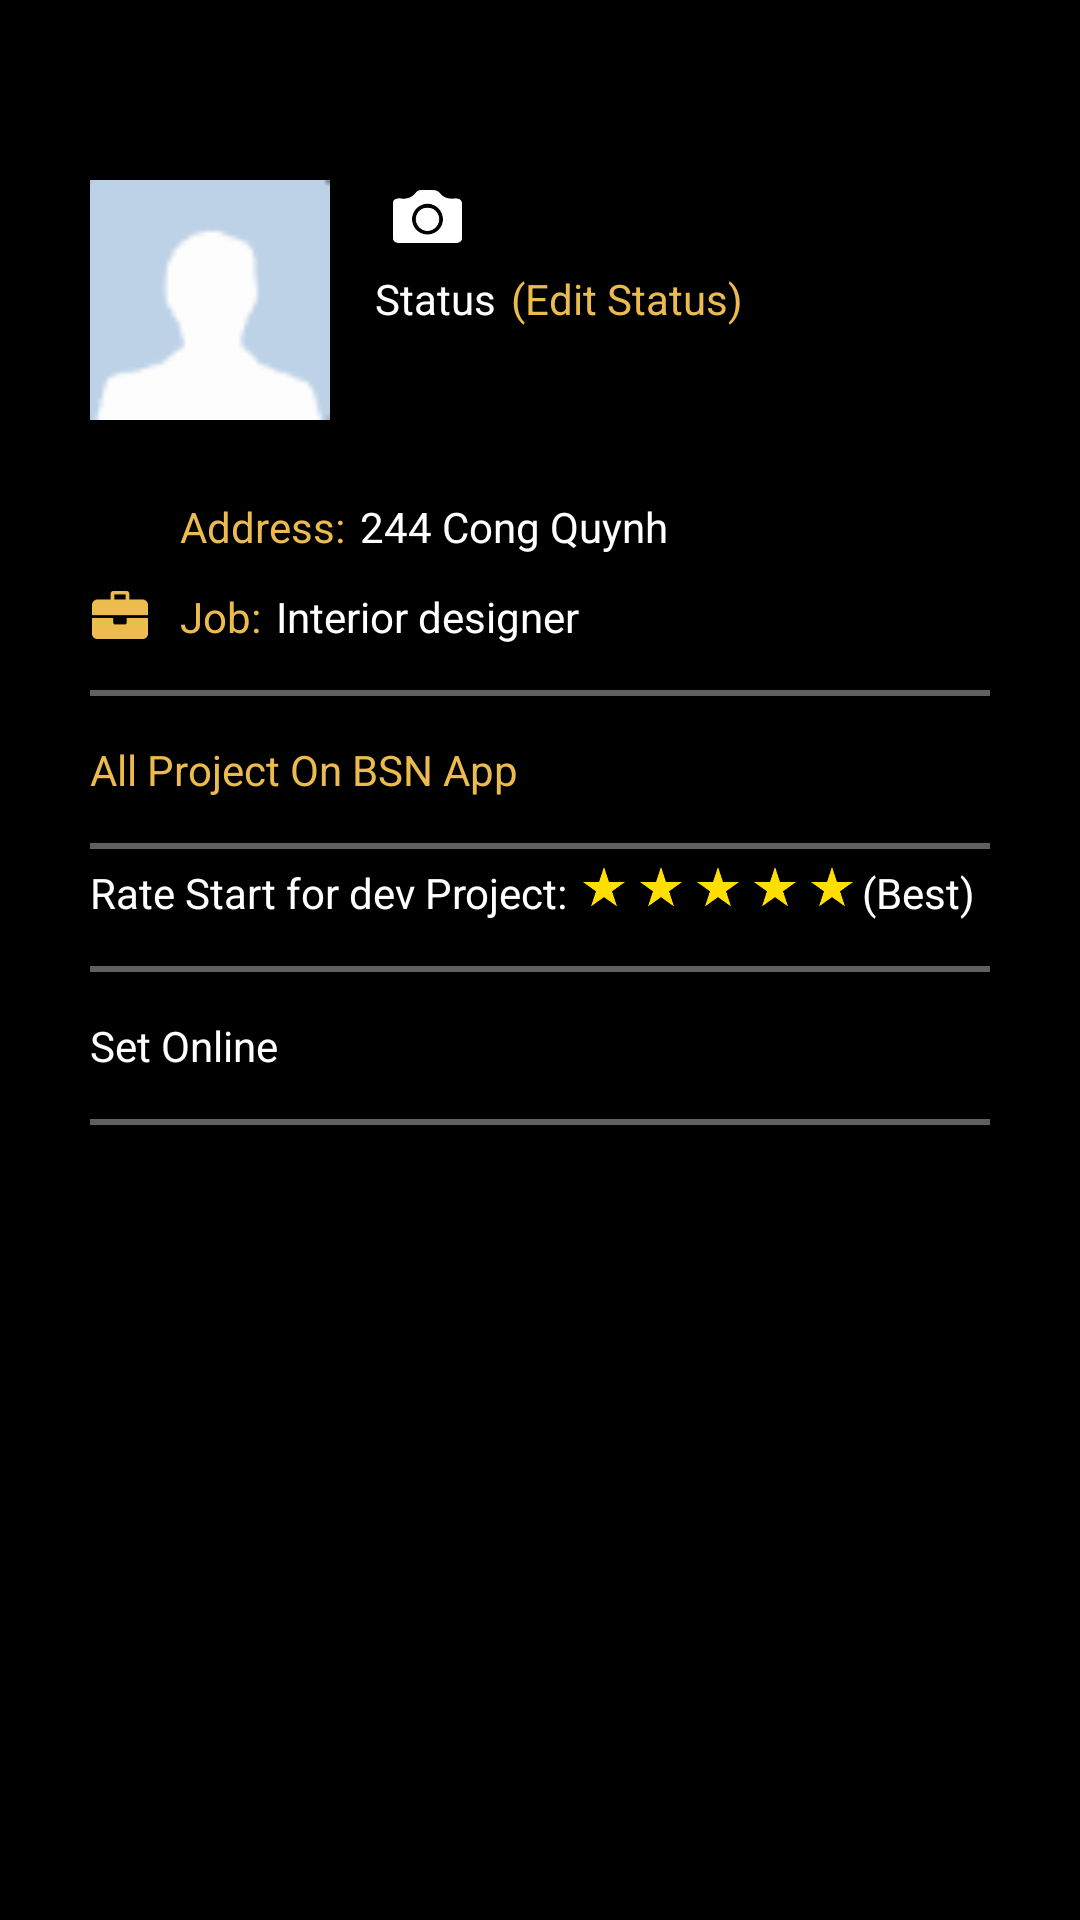

Screen size 1080 × 1920. Icon name, then its box in pixels as (x1, y1, x2, y2):
iconavatar: (90, 180, 330, 420)
iconcamera: (393, 190, 462, 243)
iconjob: (92, 591, 148, 639)
iconrate: (583, 867, 625, 906), (640, 867, 682, 906), (697, 867, 739, 906), (754, 867, 796, 906), (811, 867, 853, 906)
